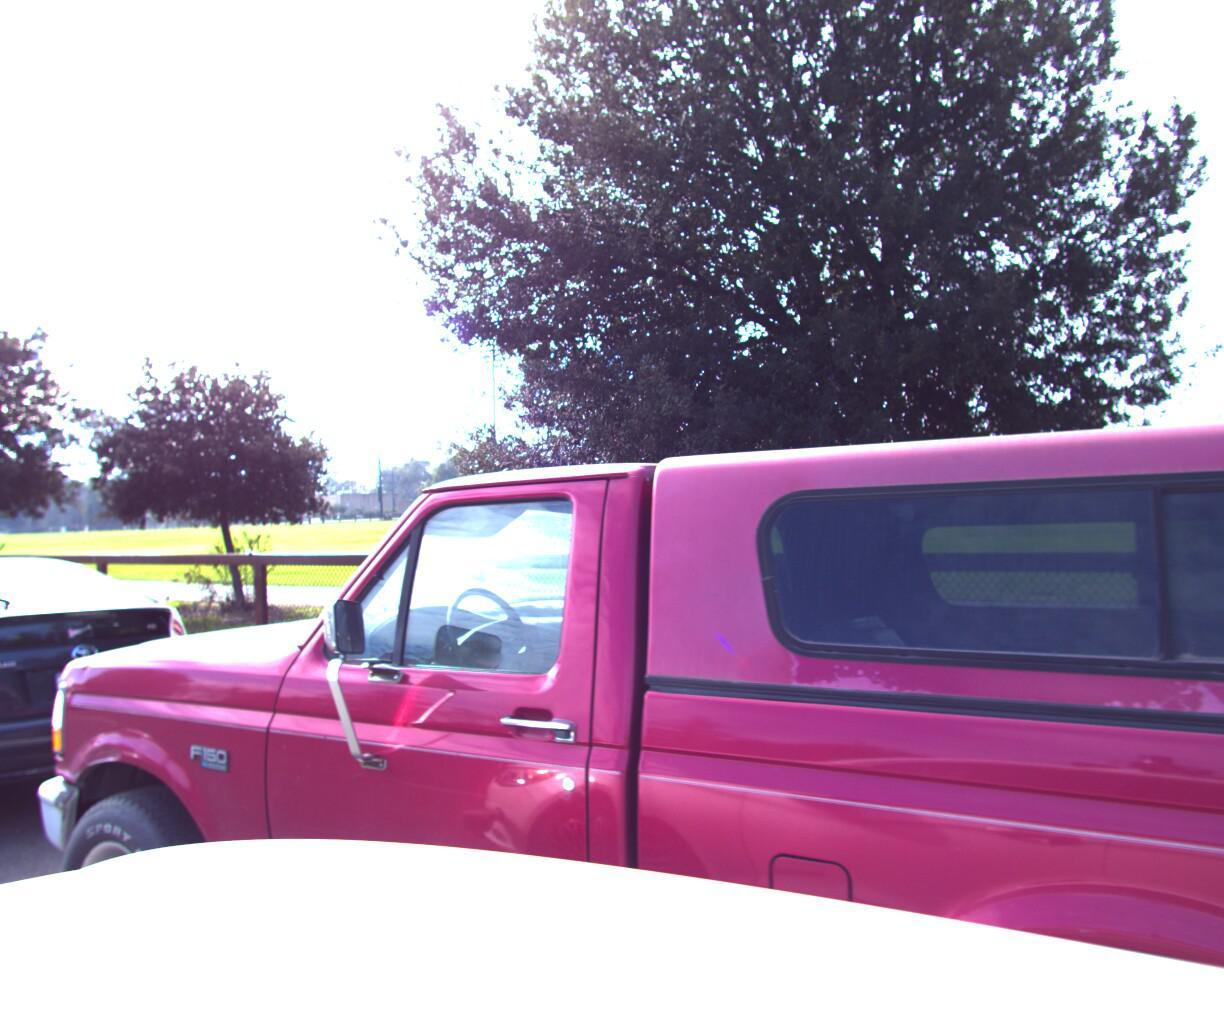car: (0, 152, 1224, 1024), (0, 546, 227, 872)
